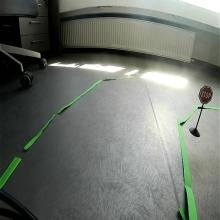stop: (198, 85, 214, 105)
